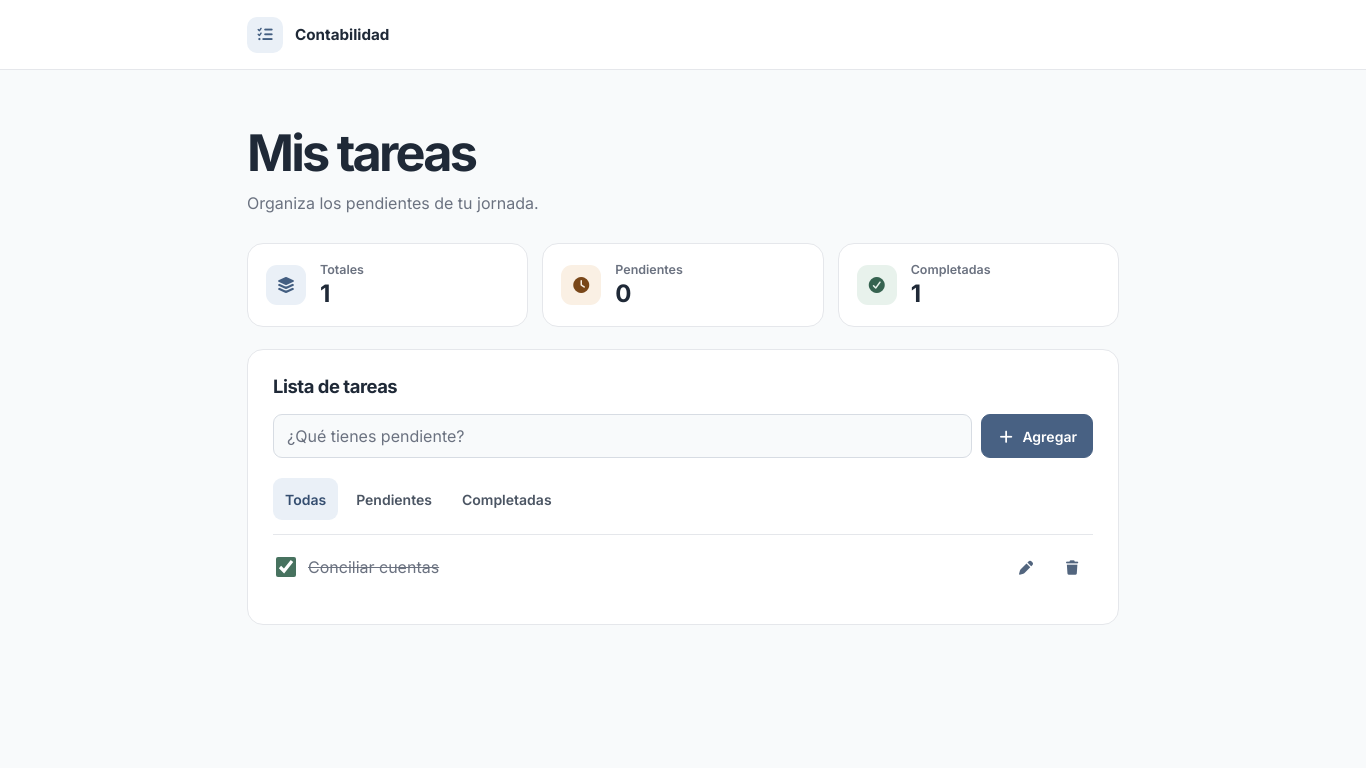
Scenario: carga tareas y solicita el filtro de pendientes
The image size is (1366, 768).
Expected: the checkbox labelled "Conciliar cuentas" is checked, [276,557,296,577]
Click the button "Pendientes": point(394, 499) [344,478,444,520]
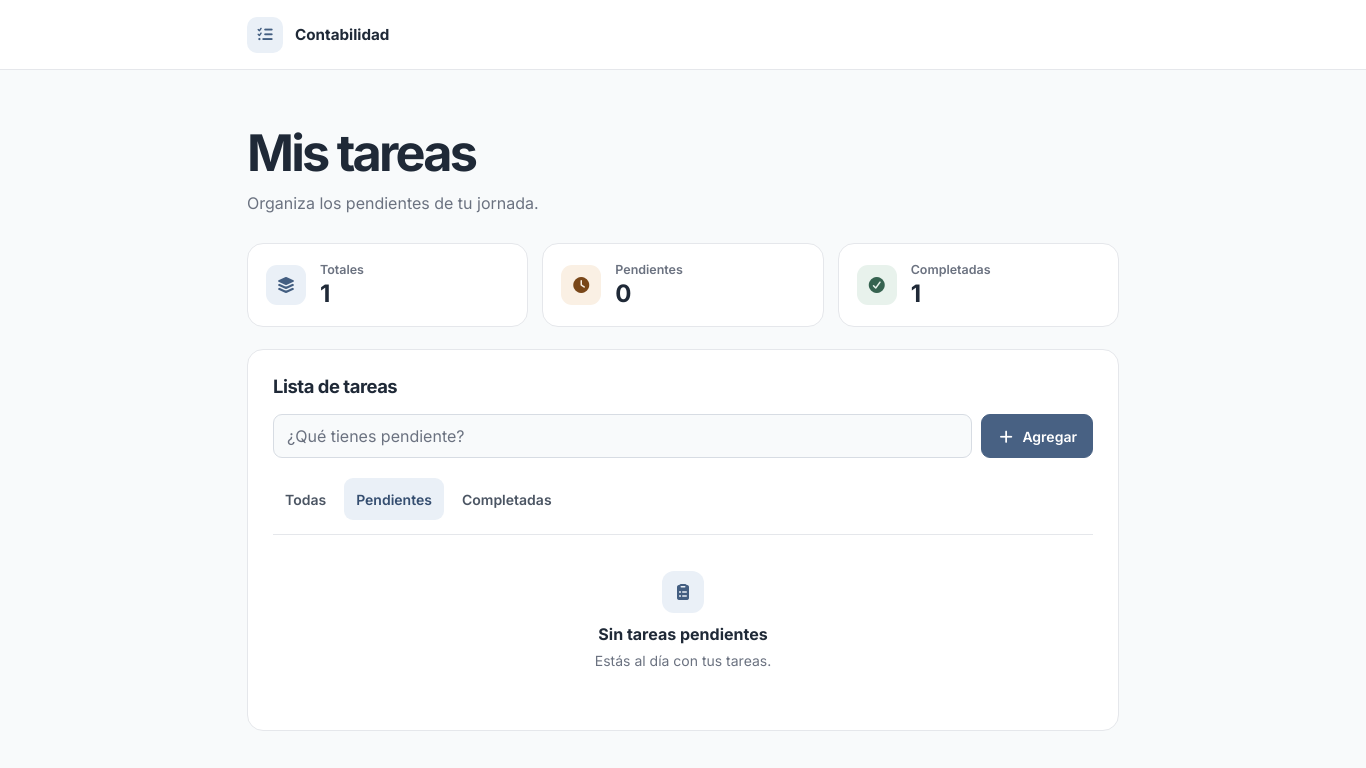
Expected: the text "Sin tareas pendientes" is shown, [598,624,768,644]
